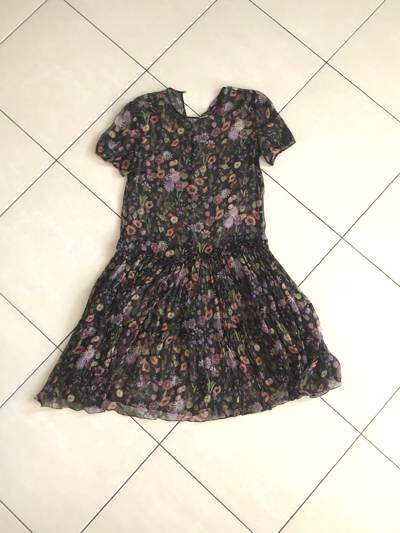Dress: (35, 57, 348, 433)
